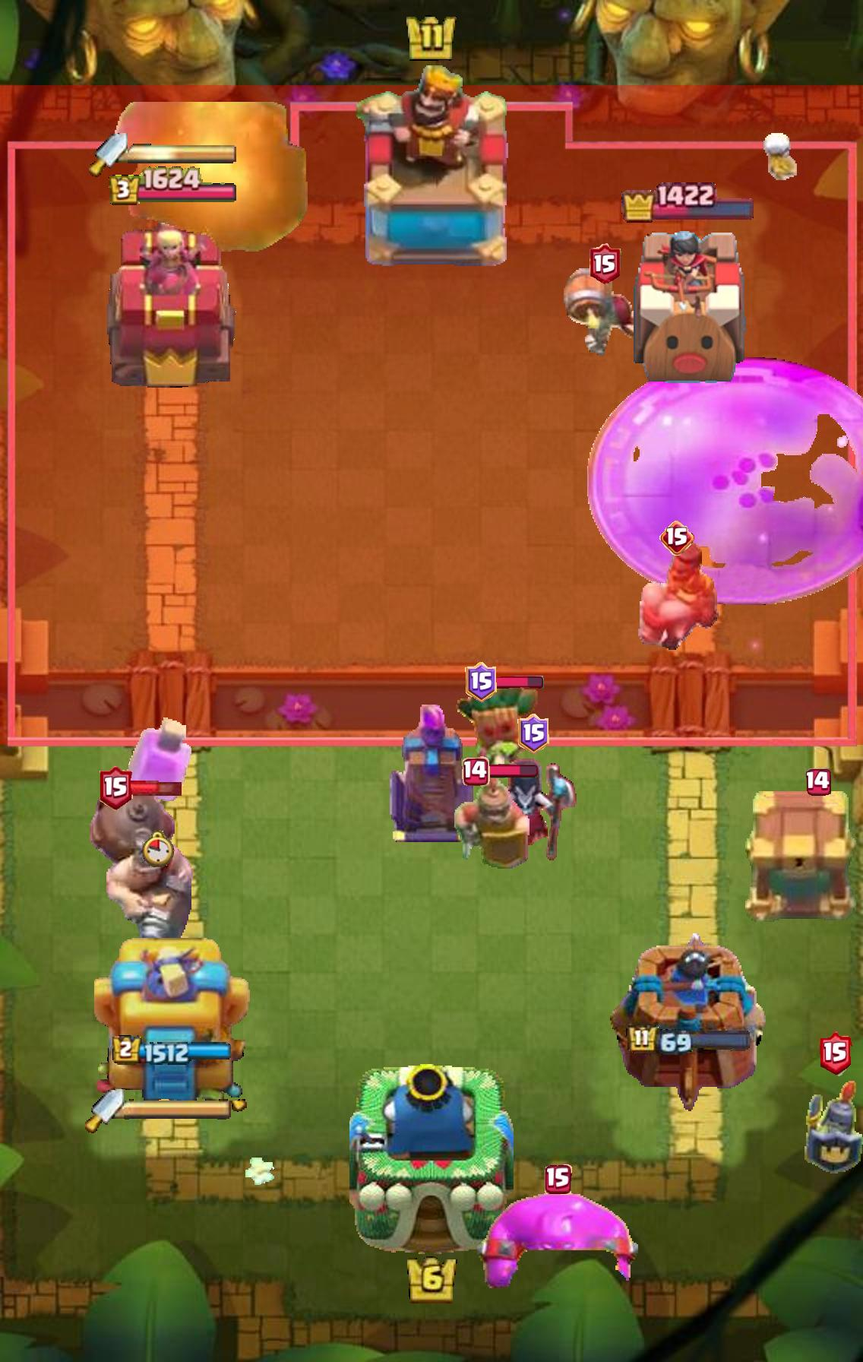skeleton: (758, 132, 801, 184)
